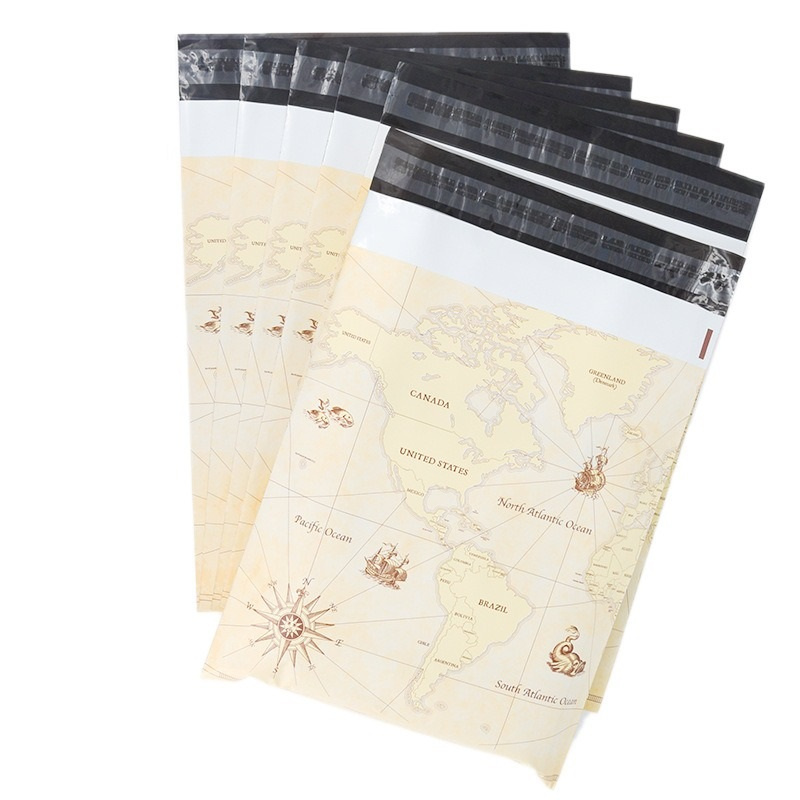Parcel: (178, 34, 758, 786)
